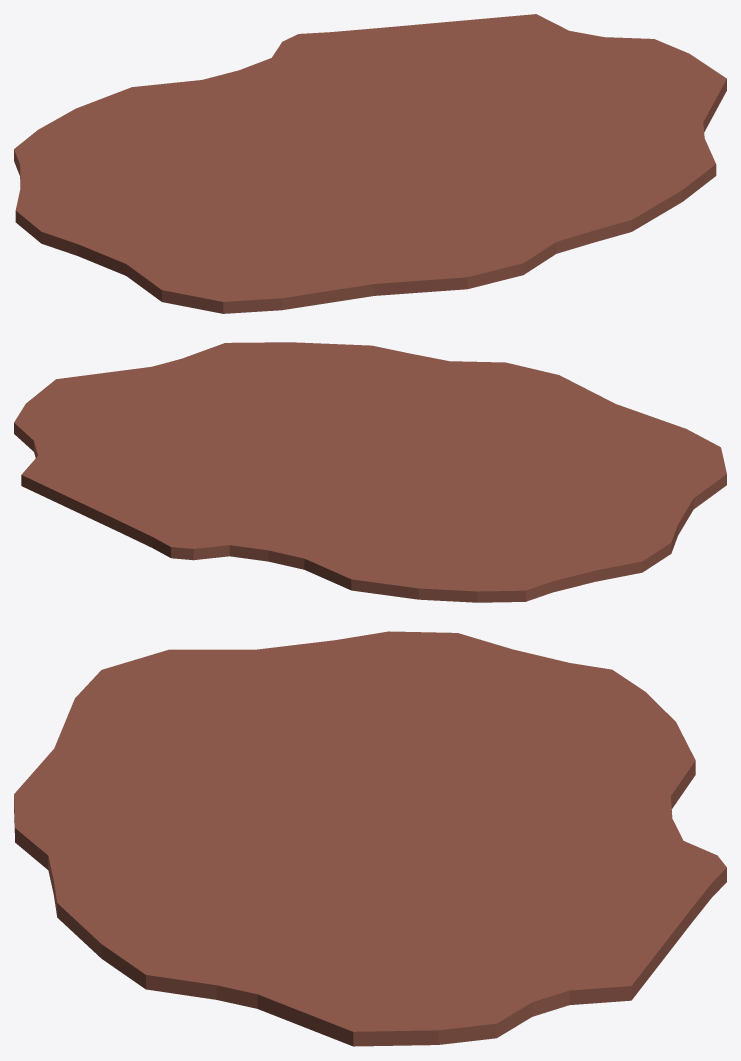
File: Sand 13.FBX
3 renders of one model, top to bottom at view 1: azimuth 30°, elevation 25°; view 2: azimuth 150°, elevation 25°; view 3: azimuth 270°, elevation 25°, orthographic. The views are drawn at different scales.
Visible parts, largest first — view 1: Plane001; view 2: Plane001; view 3: Plane001.
Part boxes in pixels (box(x1,y1,x2,y2)): Plane001: box(14, 14, 726, 313); Plane001: box(14, 342, 726, 602); Plane001: box(14, 631, 726, 1046).
Size of the model in its own units: 146 by 2.49 by 110.
